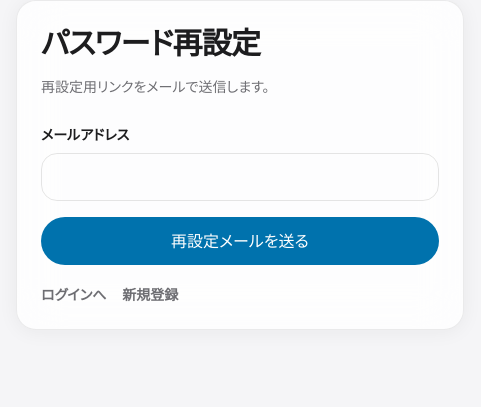
AuthForm › sends password reset emails to the dedicated reset password page
Type "user@example.com" into the field labelled "メールアドレス".
click(240, 177); type("user@example.com")  # box x1=41 y1=153 x2=439 y2=201
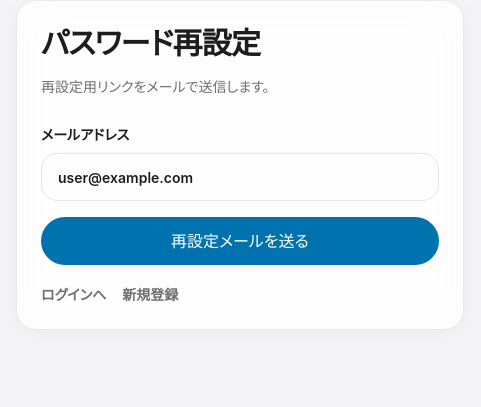
Submit the form "再設定メールを送る", box x1=41 y1=125 x2=439 y2=265
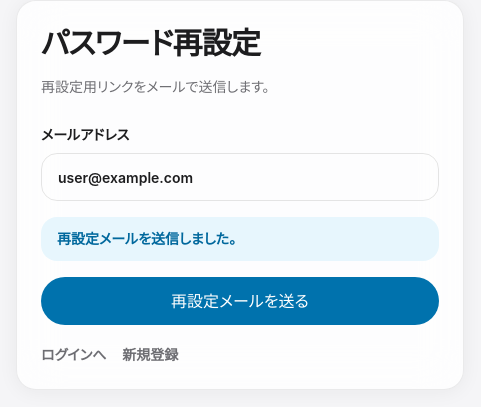
Expected: the text "再設定メールを送信しました。" is shown, x1=41 y1=217 x2=439 y2=261
